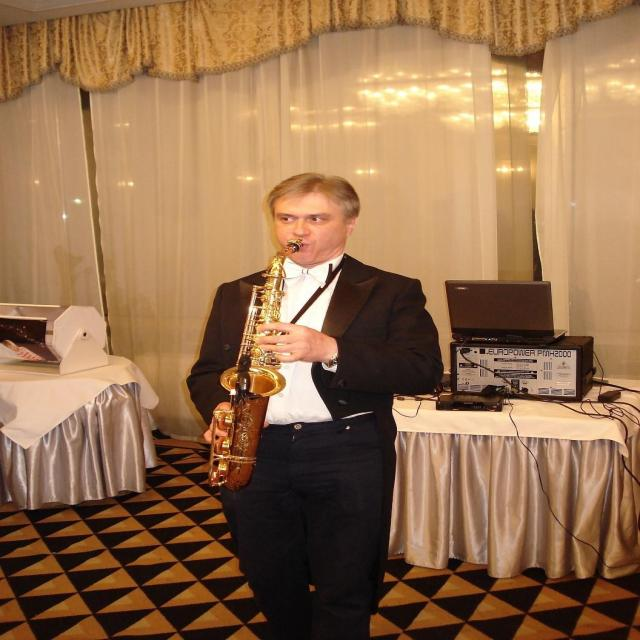saxophone: (200, 238, 302, 493)
